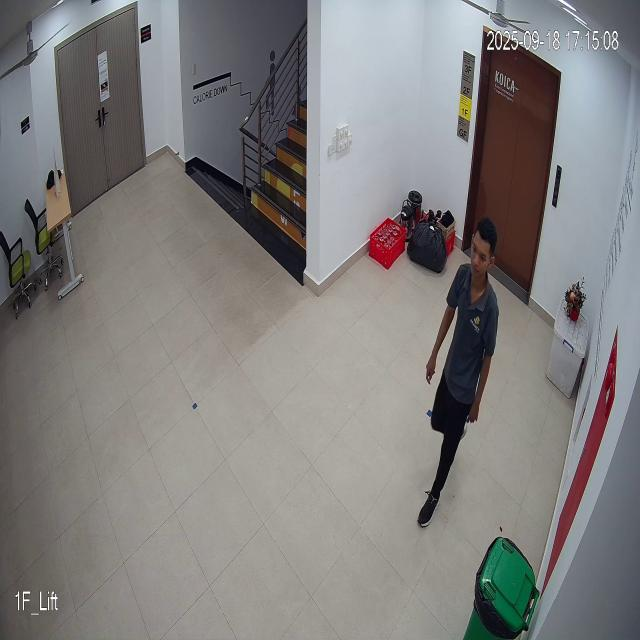face: (468, 212, 500, 290)
